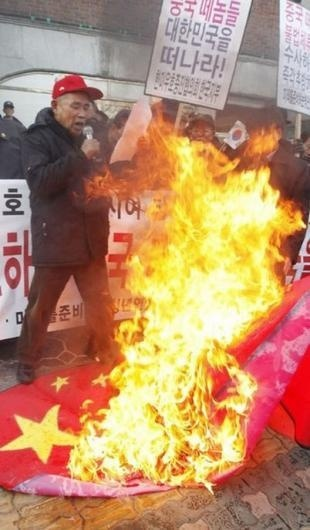fire: (39, 106, 304, 496)
